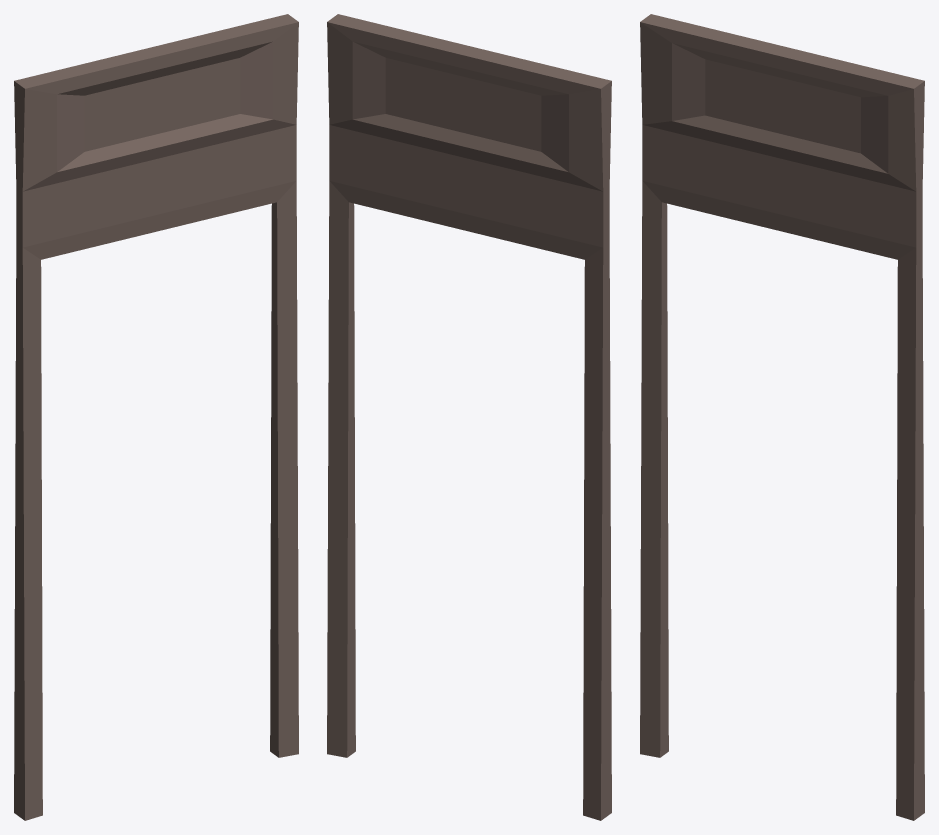
File: DoorFrame_003.fbx
The picture shows the model from 3 angles, left to right: view 1: azimuth 30°, elevation 25°; view 2: azimuth 150°, elevation 25°; view 3: azimuth 330°, elevation 25°; orthographic projection.
Visible parts, largest first — view 1: DoorFrame.003; view 2: DoorFrame.003; view 3: DoorFrame.003.
Boxes of the visible parts, x1,y1,x2,y2 form: DoorFrame.003: (14, 14, 298, 820); DoorFrame.003: (327, 14, 611, 820); DoorFrame.003: (640, 14, 924, 820).
Size of the model in its own units: 229 by 585 by 16.01.
